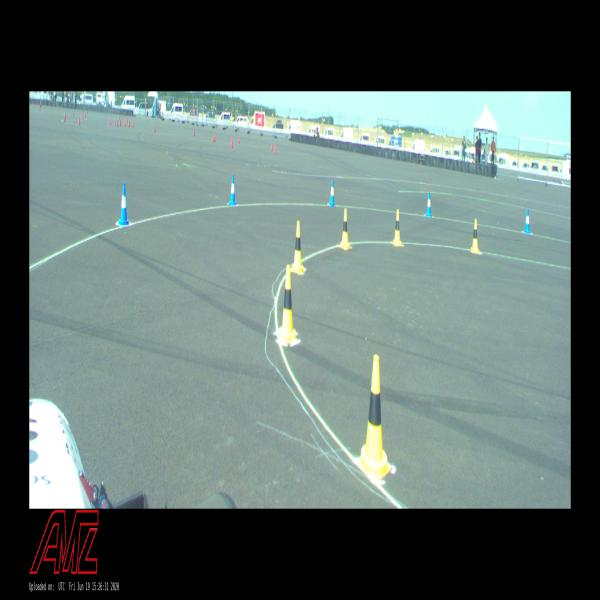blue_cone: (119, 184, 129, 225), (229, 175, 236, 205), (524, 209, 531, 234), (425, 192, 432, 216), (329, 180, 335, 205)
orange_cone: (78, 118, 79, 126)
yellow_cone: (359, 355, 392, 477), (278, 265, 296, 338), (290, 221, 306, 273), (339, 209, 351, 249), (392, 209, 403, 246), (471, 219, 479, 253)
